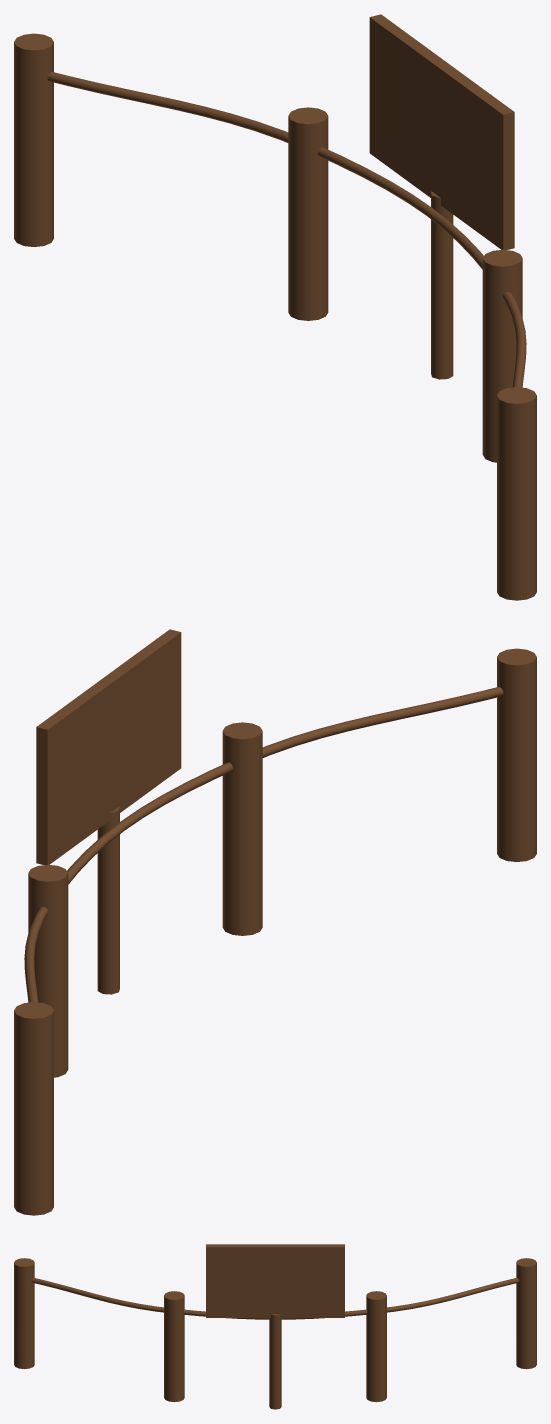
Rendered from absperrung.obj.
The picture shows the model from 3 angles, top to bottom: view 1: azimuth 30°, elevation 25°; view 2: azimuth 150°, elevation 25°; view 3: azimuth 270°, elevation 25°; orthographic projection. The views are drawn at different scales.
Parts seen in each view (by area): view 1: Absperrung; view 2: Absperrung; view 3: Absperrung.
Boxes of the visible parts, left/top/right/bottom form: Absperrung: left=14, top=14, right=536, bottom=600; Absperrung: left=14, top=629, right=536, bottom=1215; Absperrung: left=14, top=1244, right=536, bottom=1409.
Size of the model in its own units: 1.34 by 2.05 by 6.03.
